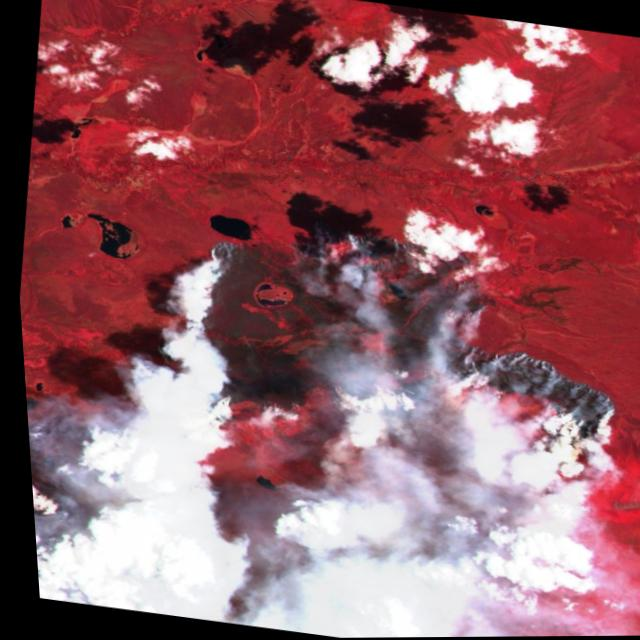fire: (126, 189, 640, 488)
